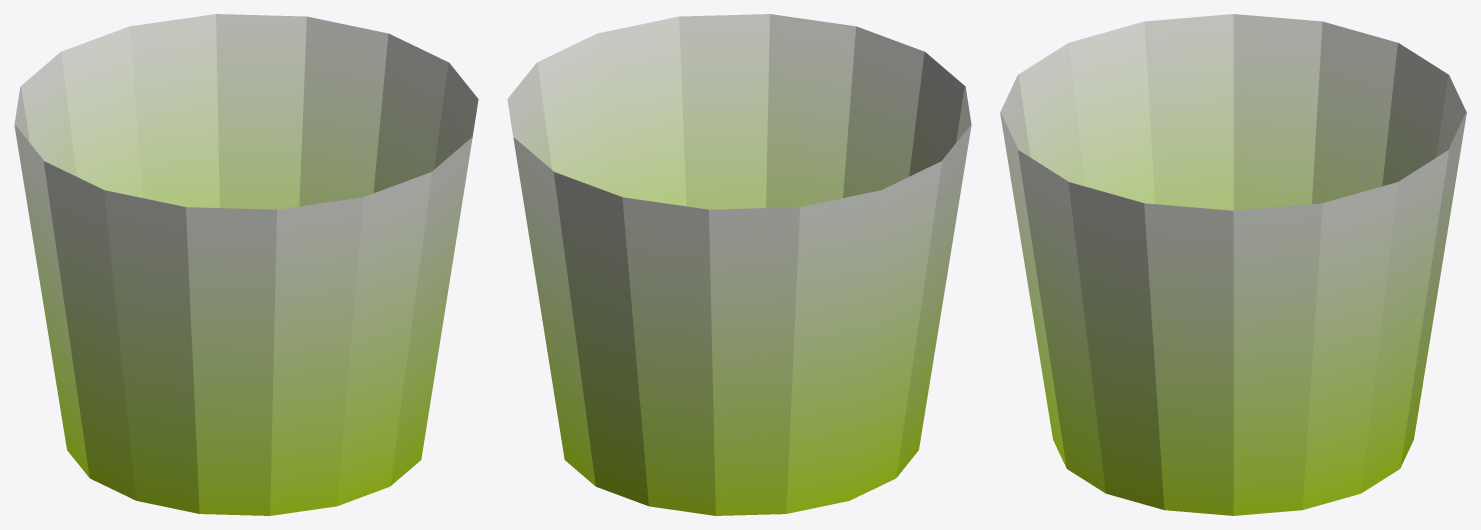
File: light-beam-y-forward-2.fbx
3 views of the same model, side by side, from view 1: azimuth 30°, elevation 25°; view 2: azimuth 150°, elevation 25°; view 3: azimuth 270°, elevation 25° (orthographic).
Visible parts, largest first — view 1: Cylinder; view 2: Cylinder; view 3: Cylinder.
Part boxes in pixels (left/top/right/bottom): Cylinder: left=14, top=14, right=478, bottom=515; Cylinder: left=507, top=14, right=971, bottom=515; Cylinder: left=1000, top=14, right=1466, bottom=515.
Bounding box in the file's own units: 2.59 × 2 × 2.59.
